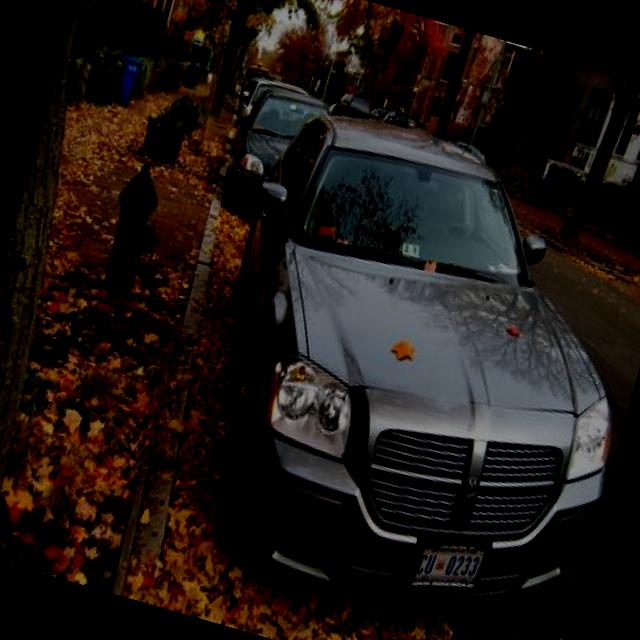Vehicle: (156, 86, 640, 640), (214, 75, 328, 224), (481, 574, 575, 640), (226, 68, 312, 134), (334, 88, 376, 119), (382, 107, 428, 133), (368, 105, 389, 124)
